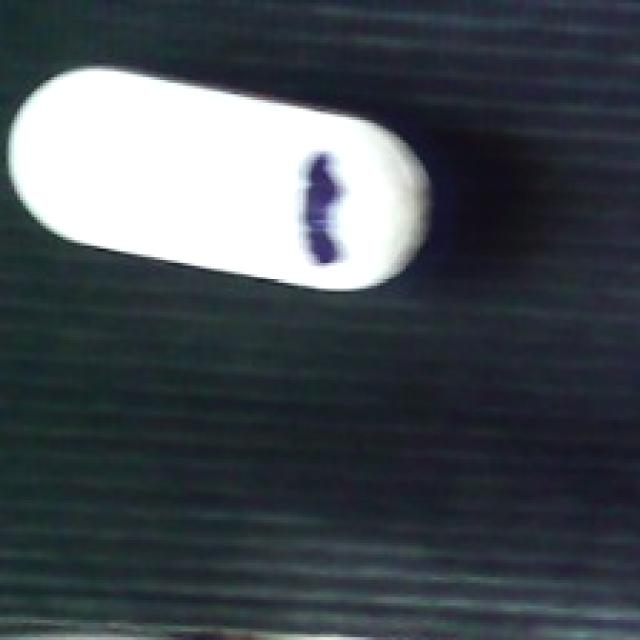defected: (3, 63, 443, 288)
